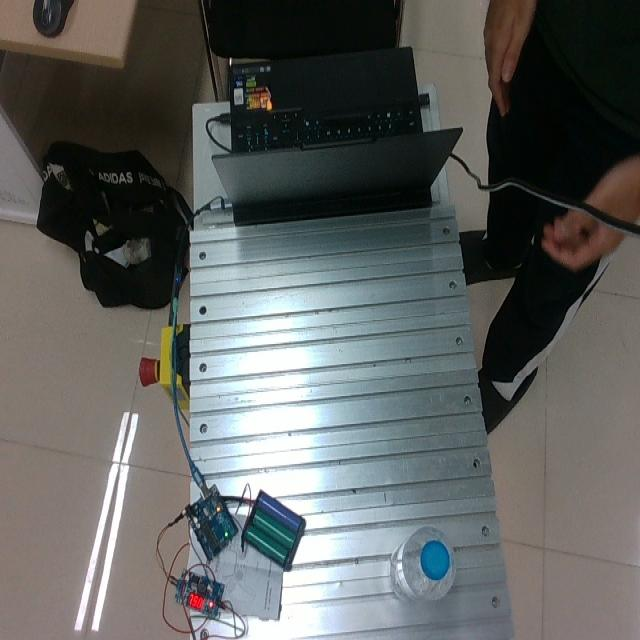coca: (32, 0, 74, 37)
lavie: (389, 524, 456, 603)
